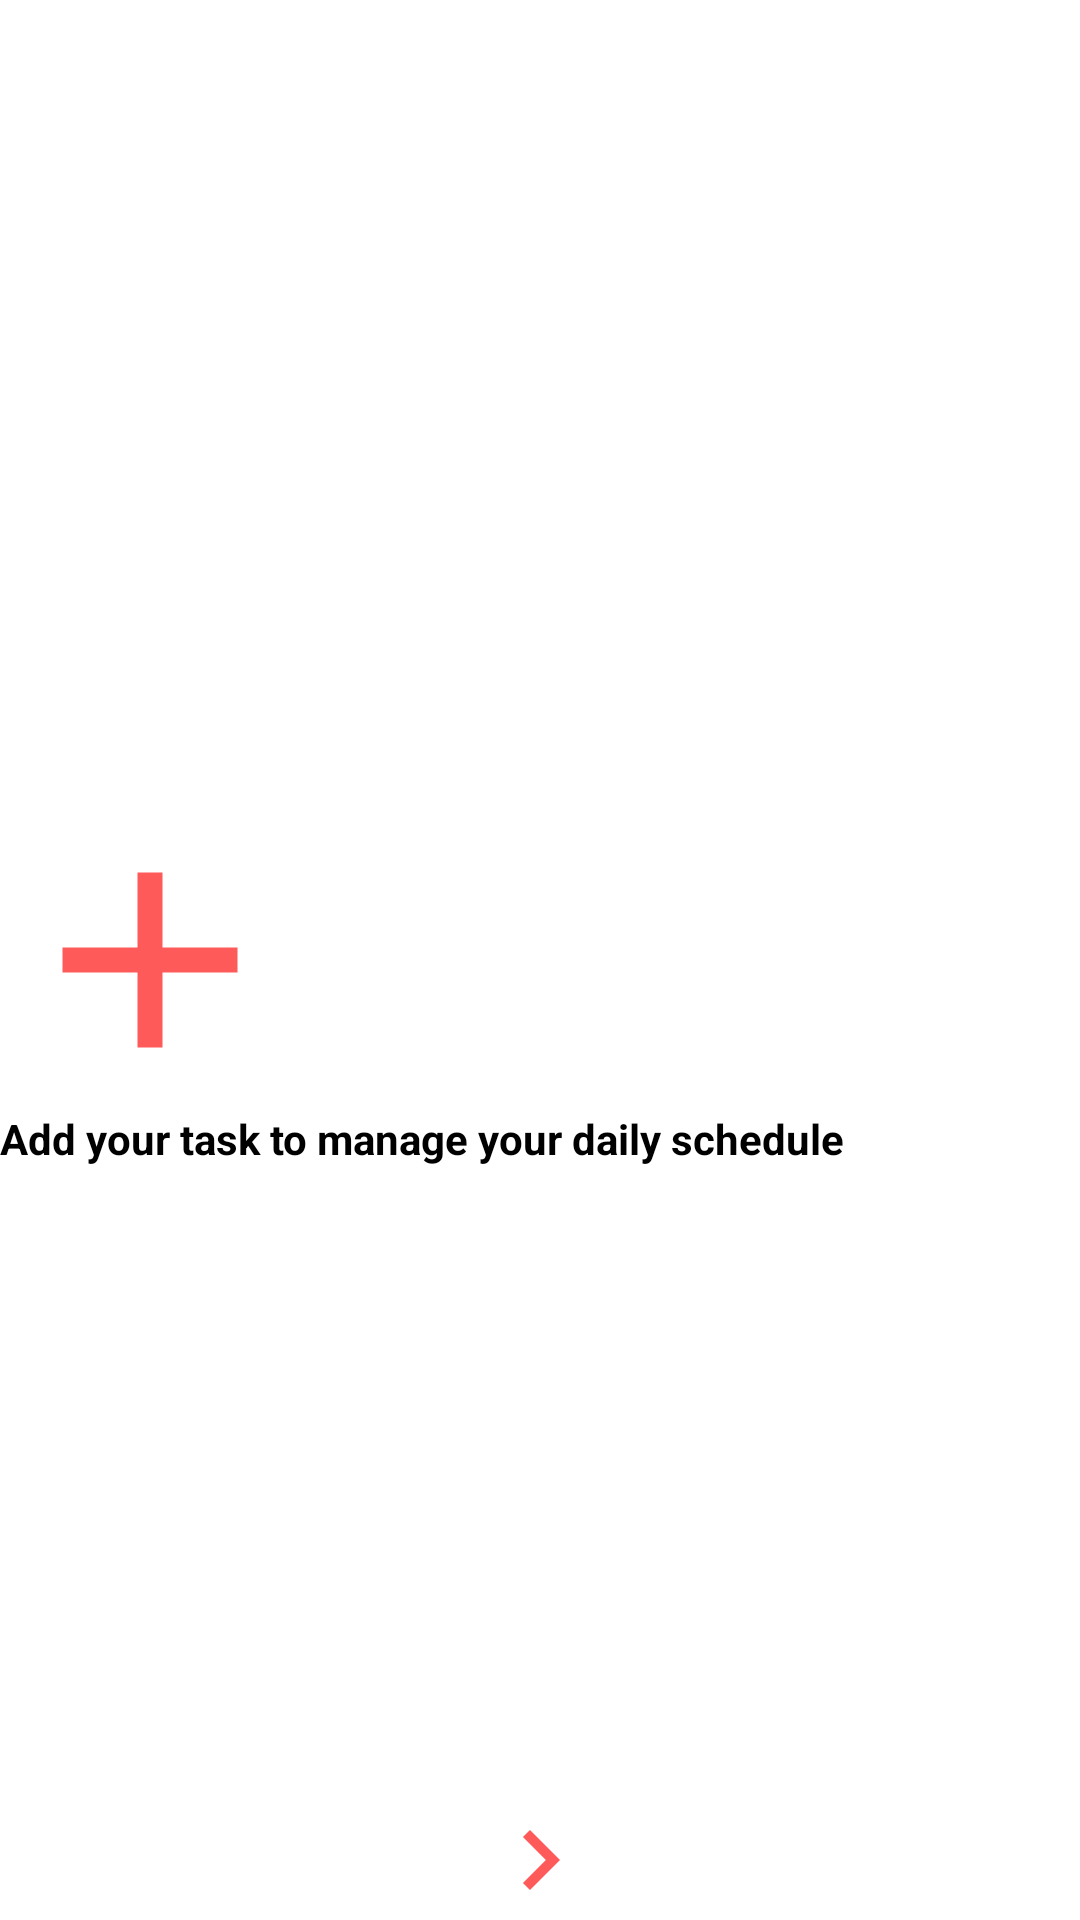

Icon bounding boxes for this 1080 x 1920 phone screenshot, format (x1, y1, x2, y2):
next: (523, 1830, 560, 1890)
plus: (62, 872, 238, 1048)
